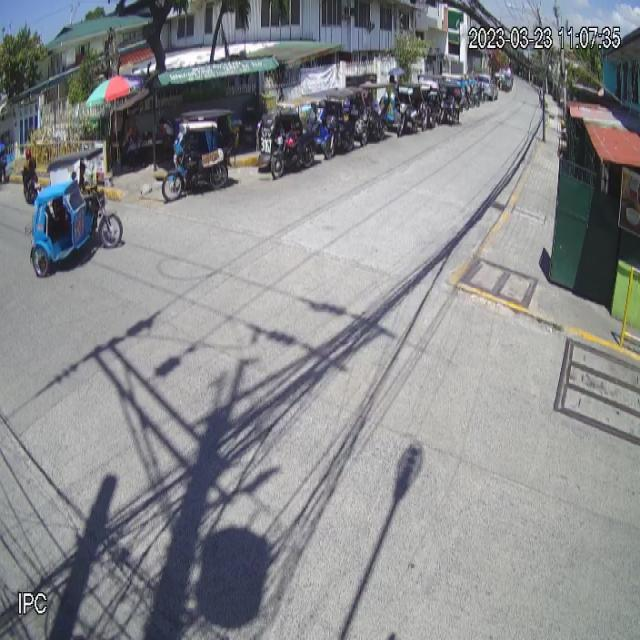Tricycle: (25, 146, 124, 278)
